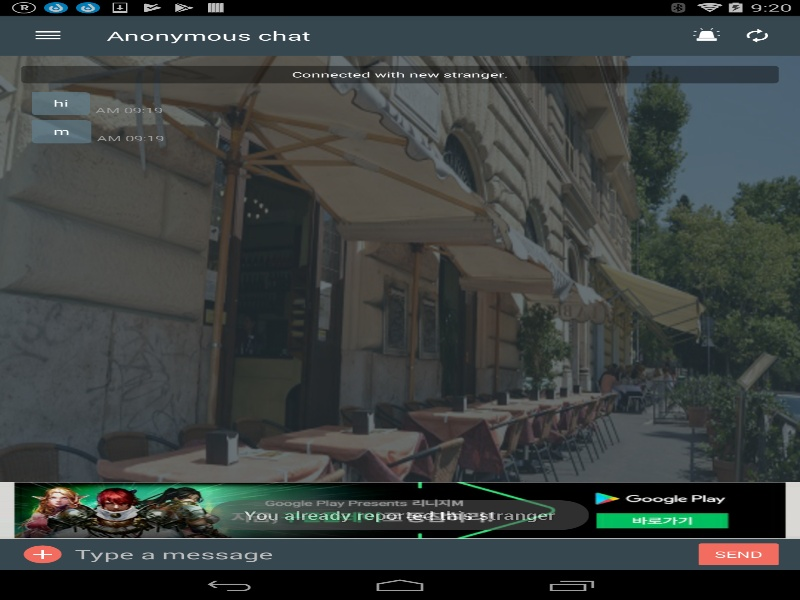Button: (10, 15, 85, 55), (24, 545, 61, 563)
Input: (74, 545, 698, 563)
